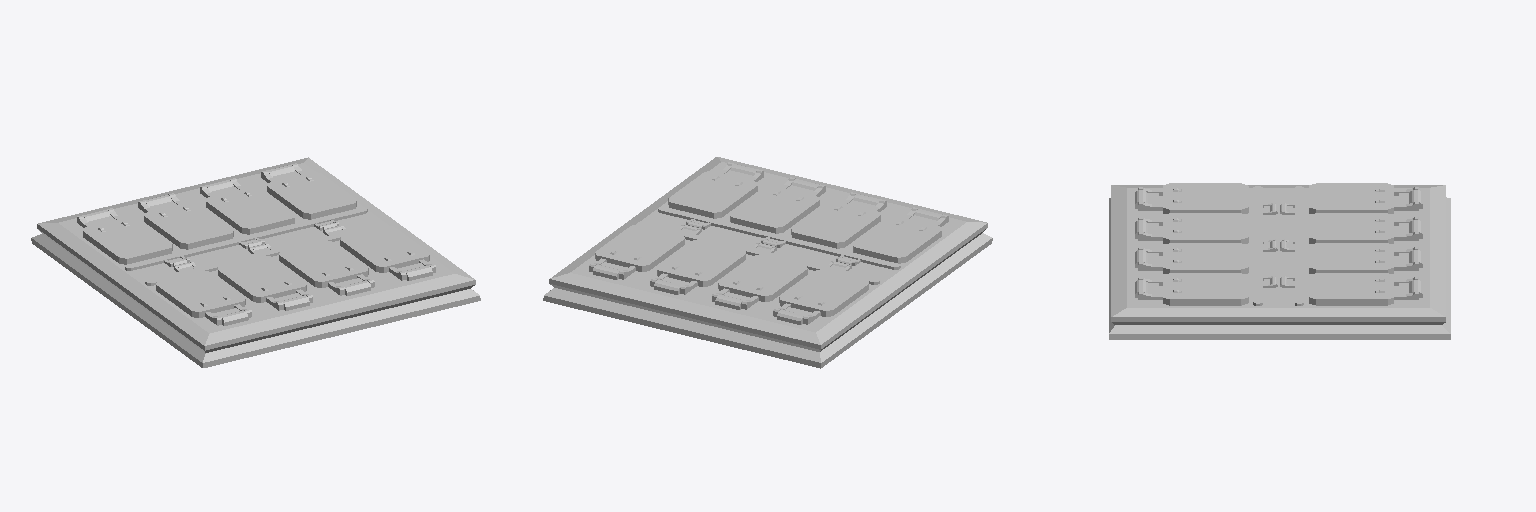
File: vls.obj
3 views of the same model, side by side, from view 1: azimuth 30°, elevation 25°; view 2: azimuth 150°, elevation 25°; view 3: azimuth 270°, elevation 25° (orthographic).
Parts seen in each view (by area): view 1: 平面; view 2: 平面; view 3: 平面.
Part boxes in pixels (x1,y1,x2,y2): 平面: (31, 157, 480, 367); 平面: (543, 157, 992, 368); 平面: (1109, 183, 1450, 339).
Size of the model in its own units: 3.23 by 0.3583 by 3.45.